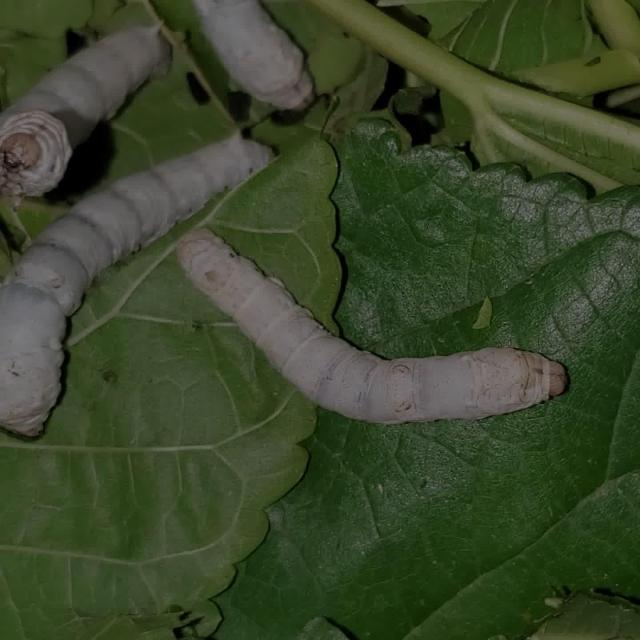Healthy: (163, 208, 589, 450)
